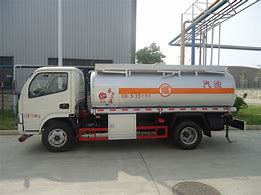oil truck: (10, 60, 247, 154)
